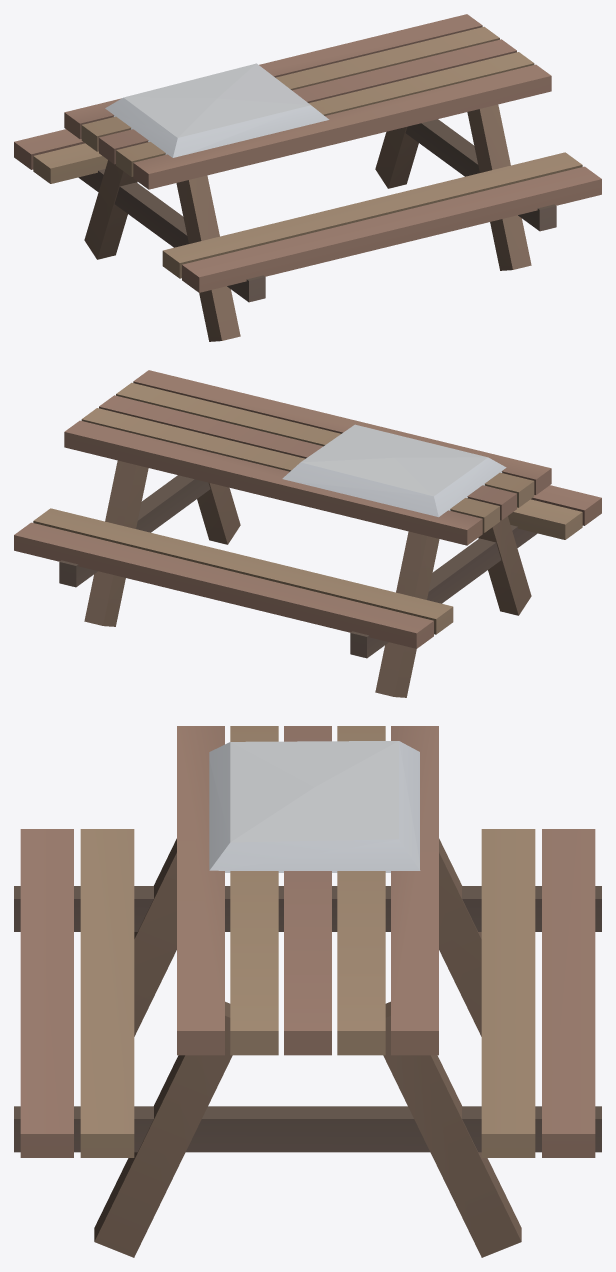
The model's file is picnic.lod2.glb.
3 views of the same model, one above another, from view 1: azimuth 30°, elevation 25°; view 2: azimuth 150°, elevation 25°; view 3: azimuth 270°, elevation 25° (orthographic). The views are drawn at different scales.
Bounding box in the file's own units: 2.16 × 0.946 × 1.76.
